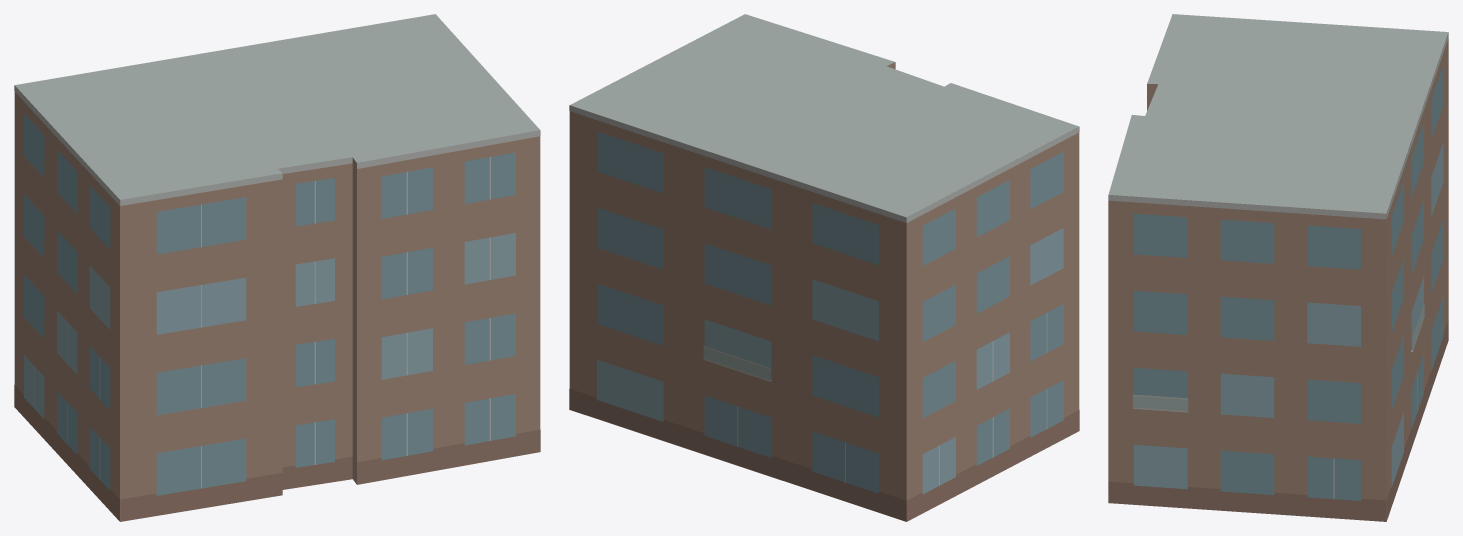
The model's file is survey-upis-32800173.glb.
3 renders of one model, left to right at view 1: azimuth 30°, elevation 25°; view 2: azimuth 150°, elevation 25°; view 3: azimuth 270°, elevation 25°, orthographic. The views are drawn at different scales.
Visible parts, largest first — view 1: survey-upis-32800173.tmp; view 2: survey-upis-32800173.tmp; view 3: survey-upis-32800173.tmp.
Boxes of the visible parts, <box> form: survey-upis-32800173.tmp: <box>14,14,540,521</box>; survey-upis-32800173.tmp: <box>569,14,1079,521</box>; survey-upis-32800173.tmp: <box>1108,14,1448,521</box>.
Bounding box in the file's own units: 17.93 × 12.9 × 12.91.
